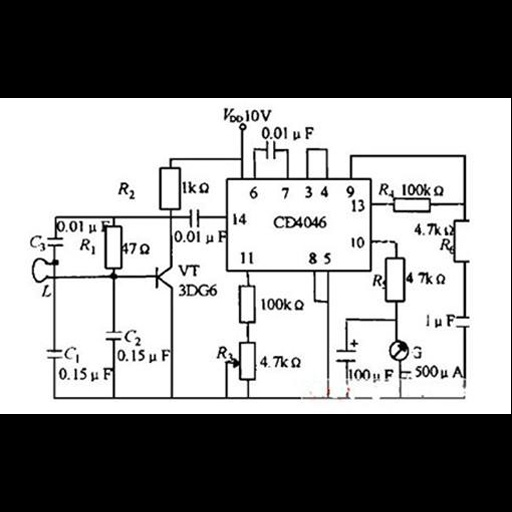capacitor: (101, 326, 124, 345), (186, 205, 203, 230), (260, 139, 280, 160), (455, 311, 473, 334), (44, 345, 64, 363), (45, 233, 66, 250)
firstpolarcapacitor: (334, 337, 359, 366)
firstresistance: (155, 165, 183, 213), (382, 253, 407, 306), (101, 224, 124, 272), (234, 282, 257, 328), (453, 214, 471, 269), (389, 196, 435, 214)
